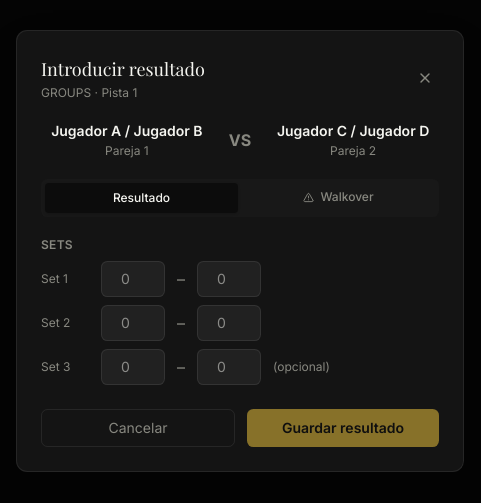
Test case: ResultModal › muestra error de validación cuando hay empate en un set
Type "6" into the 1st number field with placeholder "0".
click(133, 279); type("6")  # box [101,261,165,297]
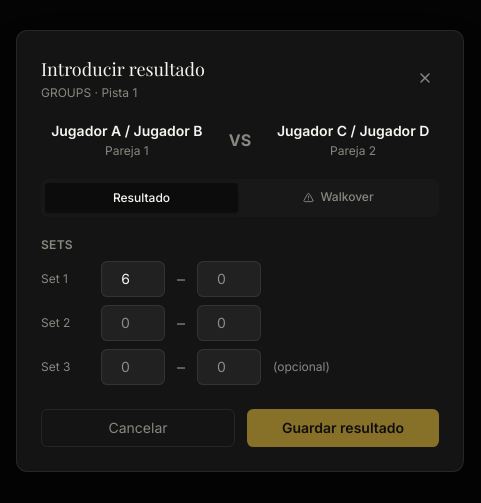
Type "6" into the 1st number field with placeholder "0".
click(229, 279); type("6")  # box [197,261,261,297]
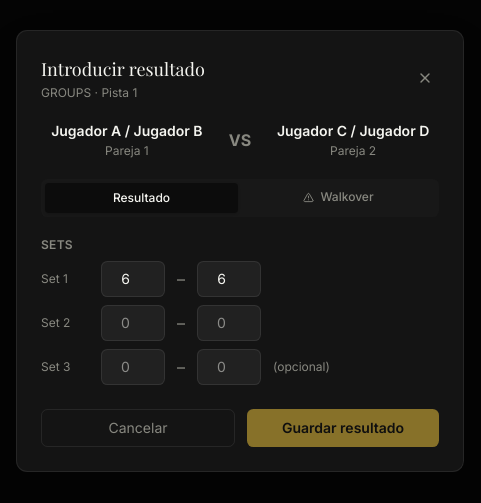
Type "3" into the 1st number field with placeholder "0".
click(133, 323); type("3")  # box [101,305,165,341]
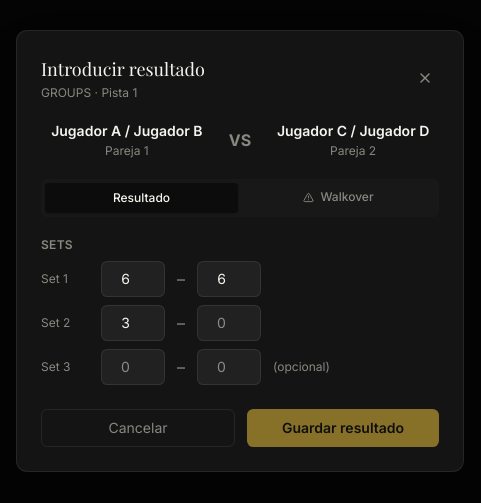
Type "6" into the 1st number field with placeholder "0".
click(229, 323); type("6")  # box [197,305,261,341]
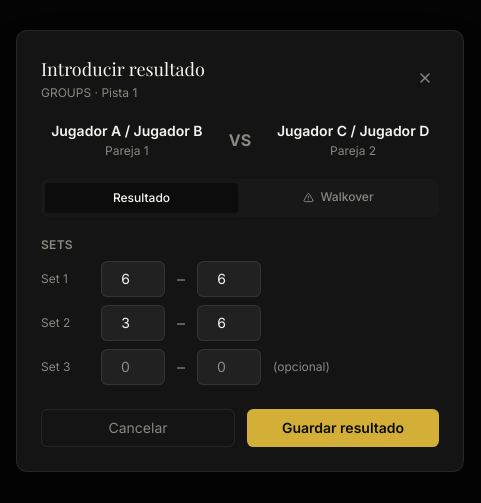
Click the button "Guardar resultado".
click(343, 428)  # box [247,409,439,447]
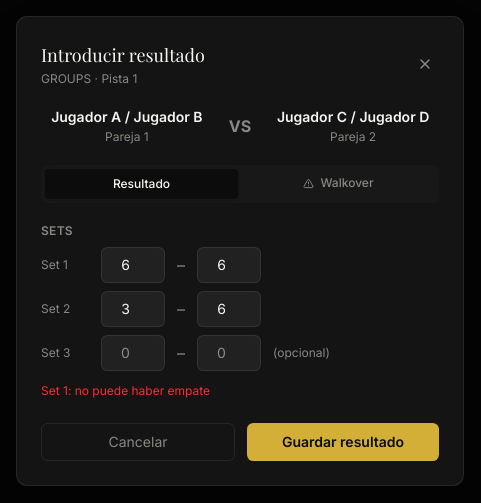
Now the text "Set 1: no puede haber empate" is shown, box [41,383,210,398]
